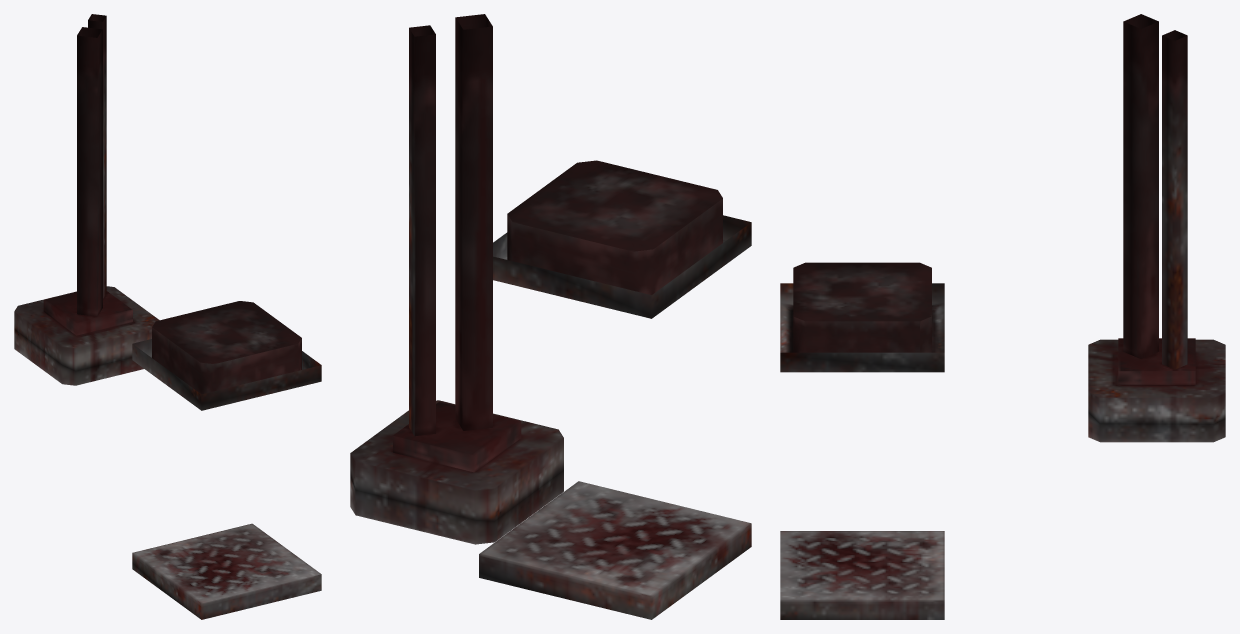
File: Piston.fbx
The picture shows the model from 3 angles, left to right: view 1: azimuth 30°, elevation 25°; view 2: azimuth 150°, elevation 25°; view 3: azimuth 270°, elevation 25°; orthographic projection. The views are drawn at different scales.
Parts seen in each view (by area): view 1: Cube.038, Cube.027, Cube.037; view 2: Cube.038, Cube.027, Cube.037; view 3: Cube.038, Cube.027, Cube.037.
Part boxes in pixels (x1=…): Cube.038: x1=14, y1=14, x2=159, y2=385; Cube.027: x1=132, y1=301, x2=321, y2=410; Cube.037: x1=132, y1=523, x2=321, y2=619; Cube.038: x1=350, y1=14, x2=563, y2=544; Cube.027: x1=493, y1=160, x2=751, y2=318; Cube.037: x1=479, y1=481, x2=751, y2=619; Cube.038: x1=1088, y1=14, x2=1225, y2=442; Cube.027: x1=780, y1=262, x2=944, y2=372; Cube.037: x1=780, y1=531, x2=944, y2=619.
Bounding box in the file's own units: 405 × 1448 × 1057.
